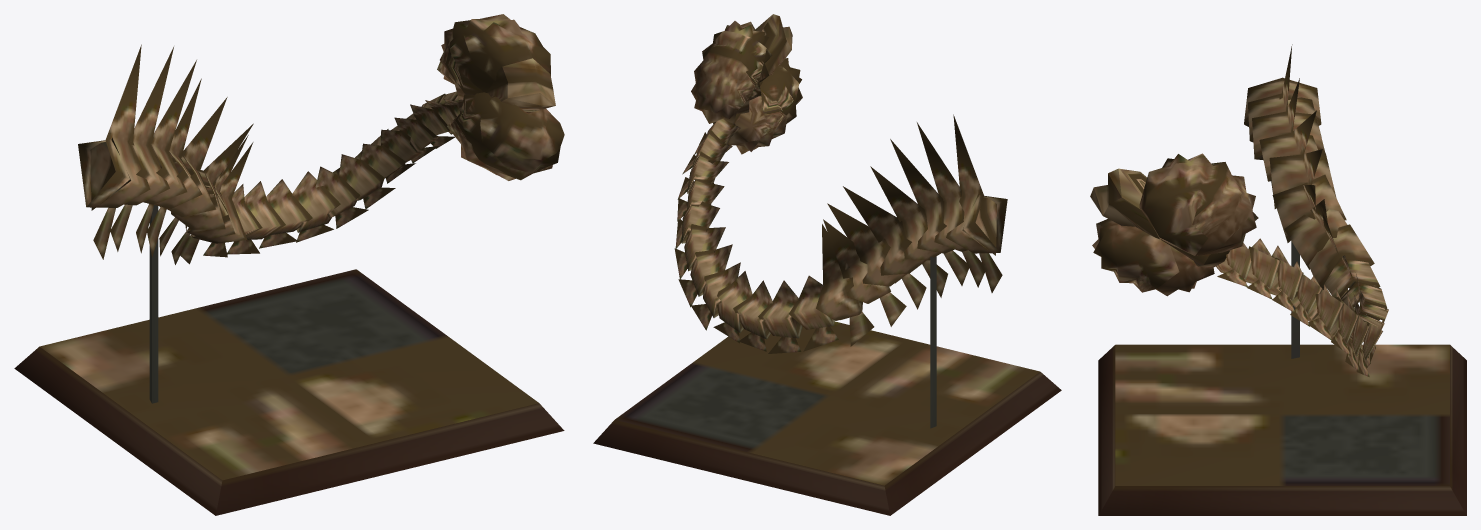
File: int_din_ank_c.dae
3 views of the same model, side by side, from view 1: azimuth 30°, elevation 25°; view 2: azimuth 150°, elevation 25°; view 3: azimuth 270°, elevation 25° (orthographic). The views are drawn at different scales.
Parts seen in each view (by area): view 1: int_din_ank_c; view 2: int_din_ank_c; view 3: int_din_ank_c.
Part boxes in pixels (x1=…): int_din_ank_c: x1=14, y1=14, x2=564, y2=515; int_din_ank_c: x1=593, y1=14, x2=1061, y2=515; int_din_ank_c: x1=1090, y1=44, x2=1466, y2=515.
Bounding box in the file's own units: 66.96 × 62.92 × 59.99.
Materials: 1 (1 with a texture image).
